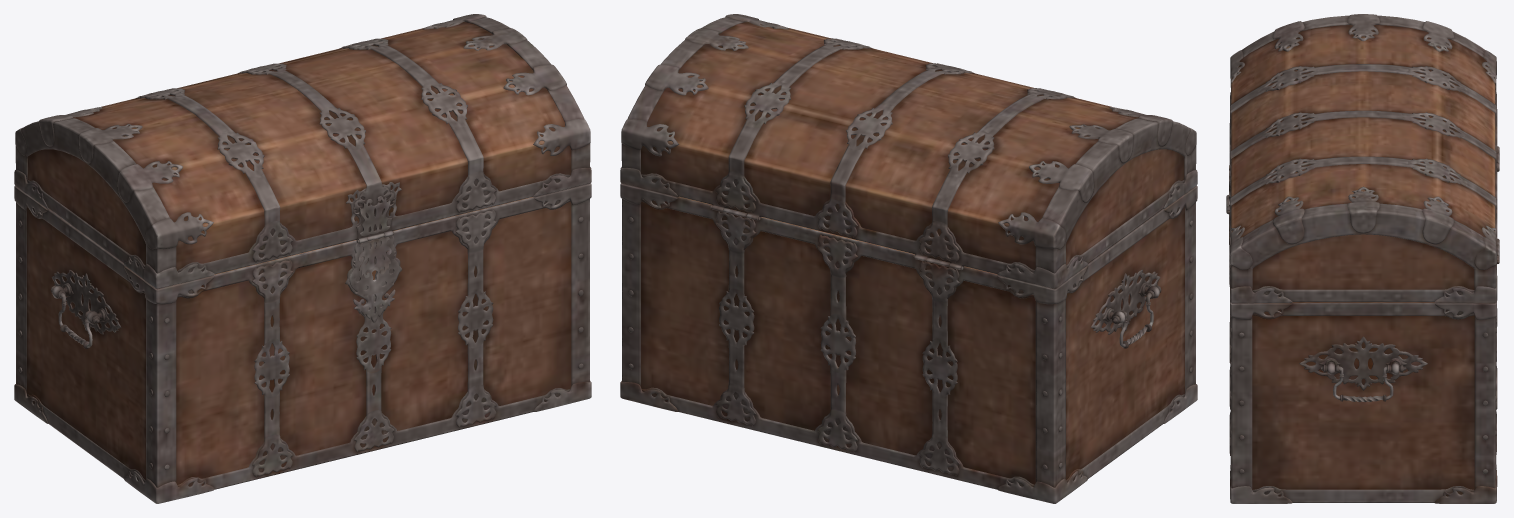
File: treasure_chest.glb
3 renders of one model, left to right at view 1: azimuth 30°, elevation 25°; view 2: azimuth 150°, elevation 25°; view 3: azimuth 270°, elevation 25°, orthographic. The views are drawn at different scales.
Parts seen in each view (by area): view 1: treasure_chest_bottom, treasure_chest_lid, treasure_chest_lock; view 2: treasure_chest_bottom, treasure_chest_lid; view 3: treasure_chest_lid, treasure_chest_bottom, treasure_chest_handle_right.
Boxes of the visible parts, box(x1,y1,x2,y2) form: treasure_chest_bottom: box(14, 183, 591, 503); treasure_chest_lid: box(14, 14, 591, 288); treasure_chest_lock: box(349, 233, 399, 322); treasure_chest_bottom: box(620, 183, 1197, 503); treasure_chest_lid: box(620, 14, 1197, 288); treasure_chest_lid: box(1226, 14, 1499, 303); treasure_chest_bottom: box(1229, 152, 1499, 503); treasure_chest_handle_right: box(1320, 365, 1406, 402).
Size of the model in its own units: 0.959 by 0.6189 by 0.5229.
1 material, 1 textured.
